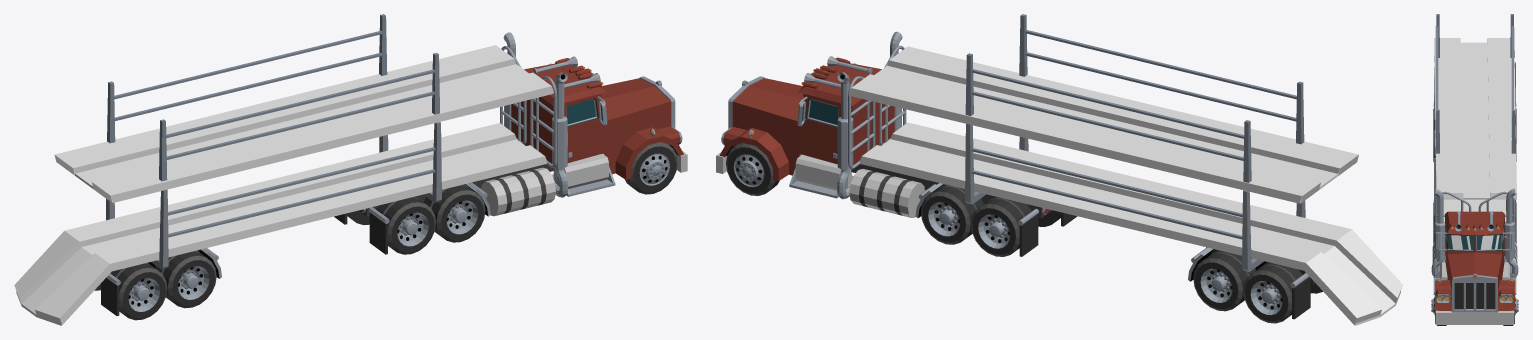
The model's file is newtruck.fbx.
3 views of the same model, side by side, from view 1: azimuth 30°, elevation 25°; view 2: azimuth 150°, elevation 25°; view 3: azimuth 270°, elevation 25° (orthographic). The views are drawn at different scales.
Visible parts, largest first — view 1: truck; view 2: truck; view 3: truck.
Boxes of the visible parts, x1=… form: truck: x1=14, y1=14, x2=687, y2=325; truck: x1=716, y1=14, x2=1402, y2=325; truck: x1=1431, y1=14, x2=1518, y2=325.
Bounding box in the file's own units: 2358 × 683 × 390.
